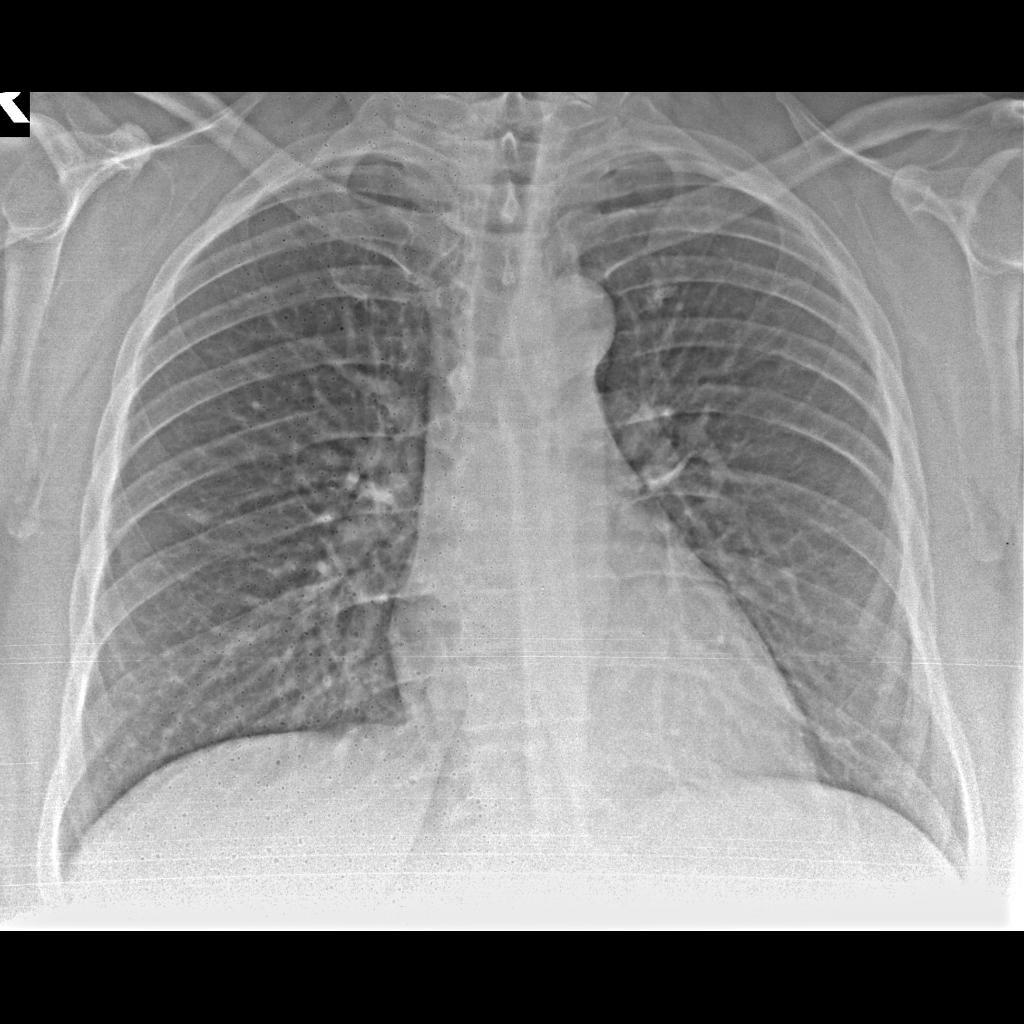Nodule: (173, 496, 223, 541)
